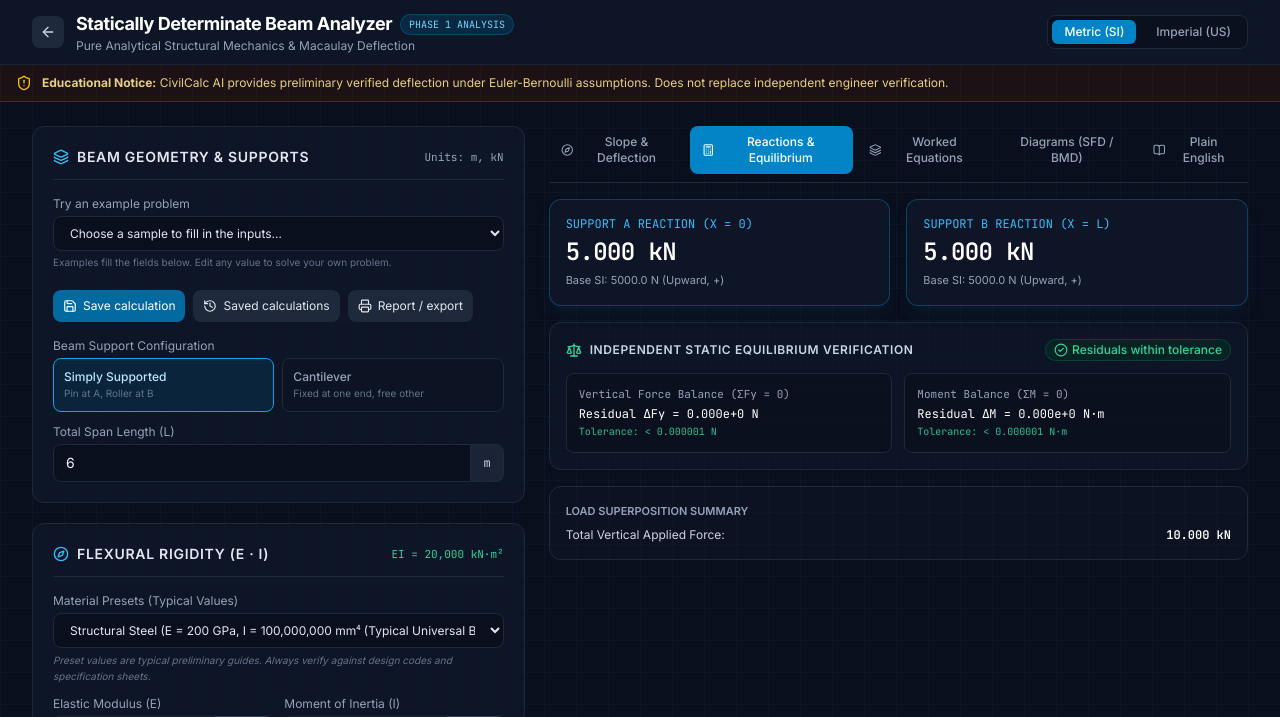
Test: BeamWorkspace Component (Milestone 2 & 3) › switches between Simply Supported and Cantilever beam types
This screenshot has width=1280, height=717.
Click the button "Cantilever Fixed at one end, free other". click: (393, 385)
box: [282,358,504,412]
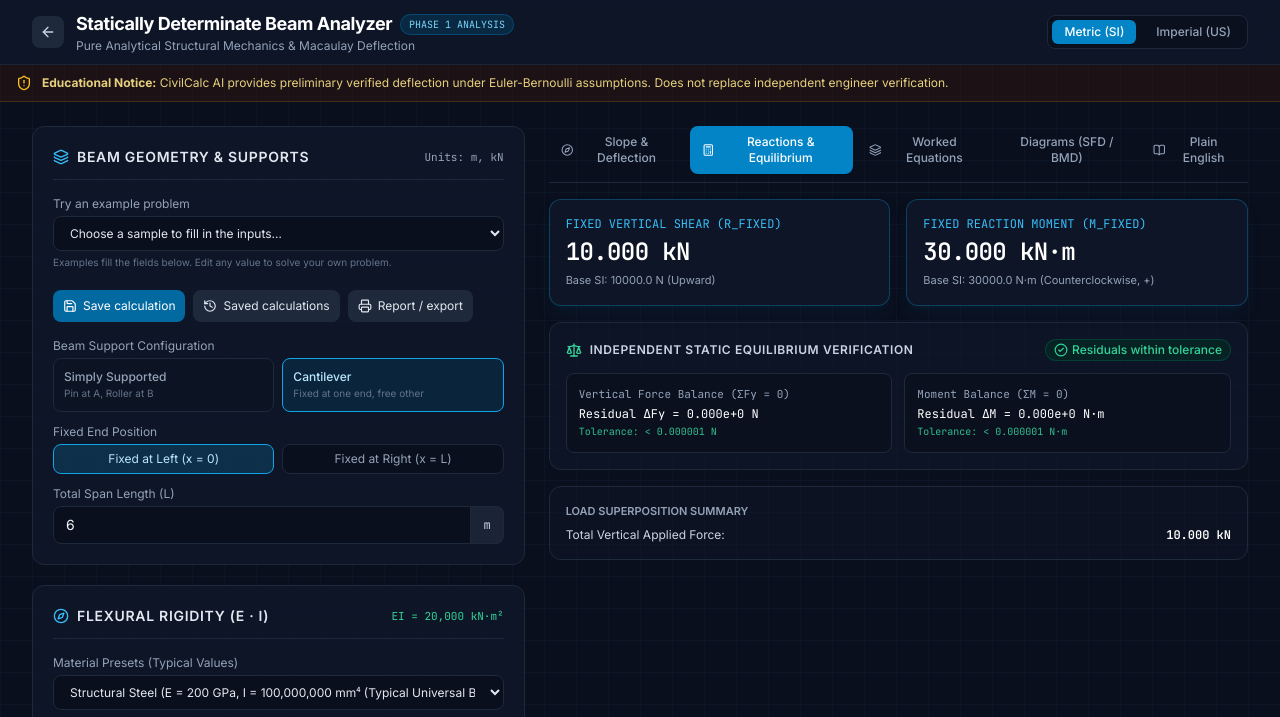
Now the text "Fixed Vertical Shear (R_fixed)" is shown, box [566,216,782,232]
Now the text "Fixed Reaction Moment (M_fixed)" is shown, box [923,216,1146,232]
